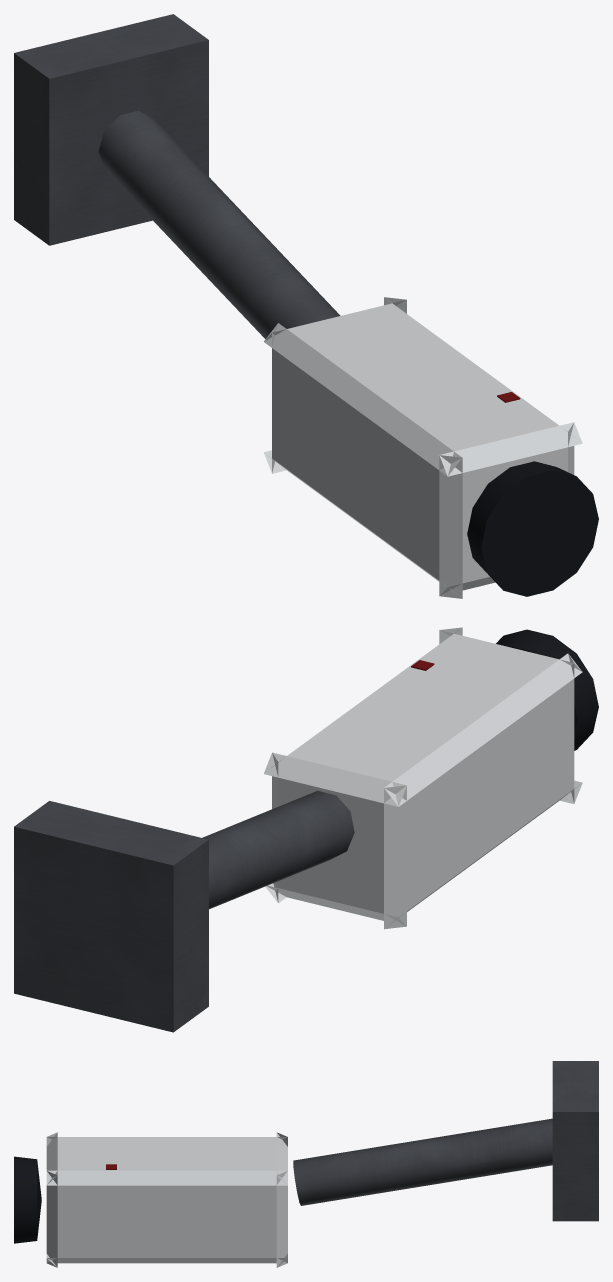
Rendered from cctv.obj.
The picture shows the model from 3 angles, top to bottom: view 1: azimuth 30°, elevation 25°; view 2: azimuth 150°, elevation 25°; view 3: azimuth 270°, elevation 25°; orthographic projection. The views are drawn at different scales.
Visible parts, largest first — view 1: cctv; view 2: cctv; view 3: cctv.
Boxes of the visible parts, x1,y1,x2,y2 form: cctv: (14,14,598,598); cctv: (14,627,598,1032); cctv: (14,1061,598,1267).
Bounding box in the file's own units: 0.13 × 0.19 × 0.63.
